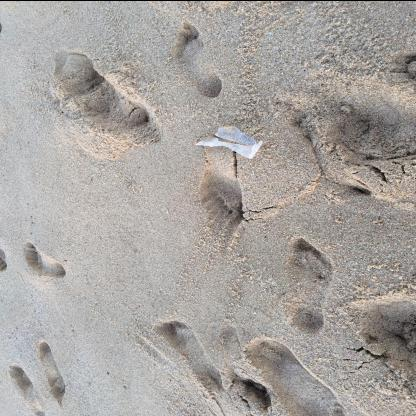plastik: (195, 124, 263, 158)
